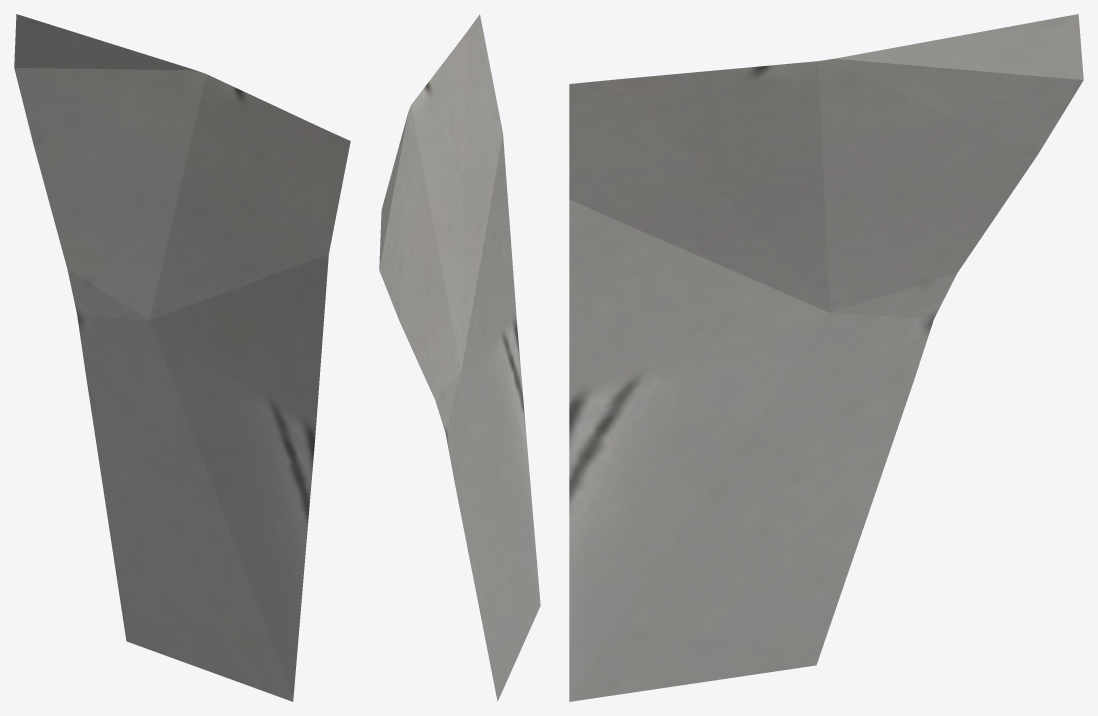
3 renders of one model, left to right at view 1: azimuth 30°, elevation 25°; view 2: azimuth 150°, elevation 25°; view 3: azimuth 270°, elevation 25°, orthographic. The views are drawn at different scales.
Bounding box in the file's own units: 0.1931 × 0.8373 × 0.5994.
Materials: 2 (2 with a texture image).
